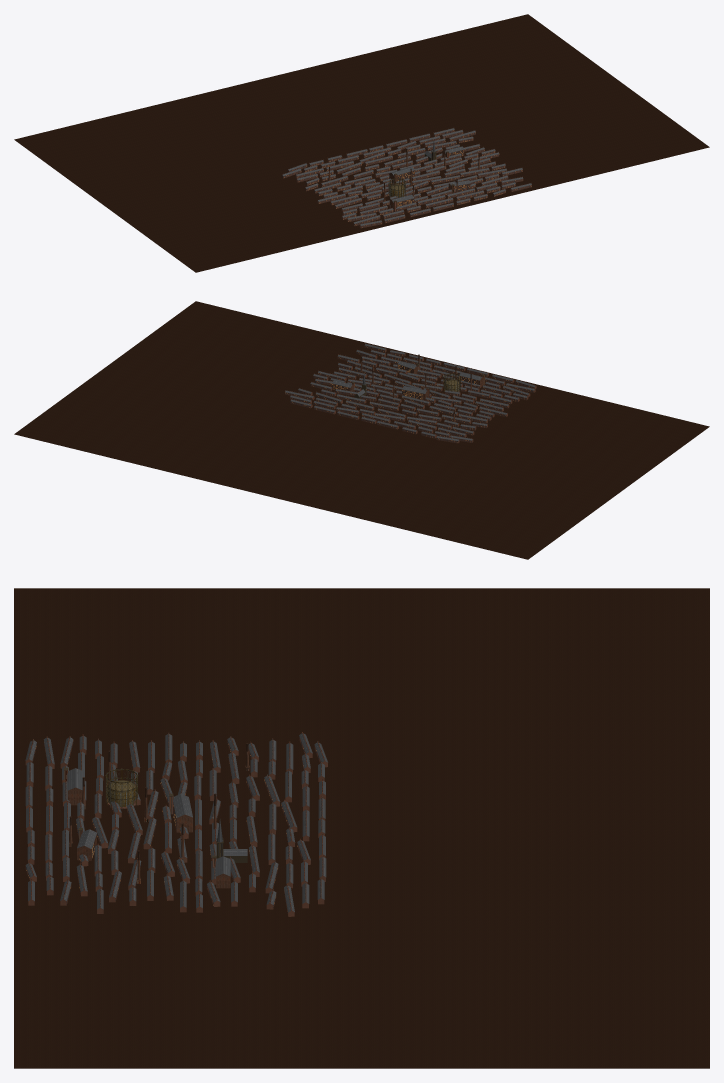
File: far-town.glb
3 views of the same model, one above another, from view 1: azimuth 30°, elevation 25°; view 2: azimuth 150°, elevation 25°; view 3: azimuth 270°, elevation 25° (orthographic). The views are drawn at different scales.
Visible parts, largest first — view 1: far-town-ground.001; view 2: far-town-ground.001; view 3: far-town-ground.001, far-town-gasholder.001.
Boxes of the visible parts, box(x1,y1,x2,y2) form: far-town-ground.001: box(14, 14, 709, 272); far-town-ground.001: box(14, 301, 709, 559); far-town-ground.001: box(14, 588, 709, 1068); far-town-gasholder.001: box(105, 768, 138, 809).
Size of the model in its own units: 1400 by 59.8 by 858.
10 materials, 10 textured.
